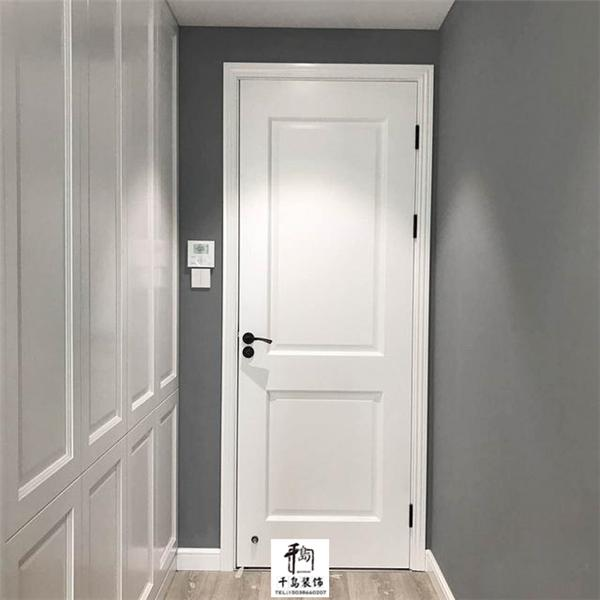door: (239, 80, 410, 567)
